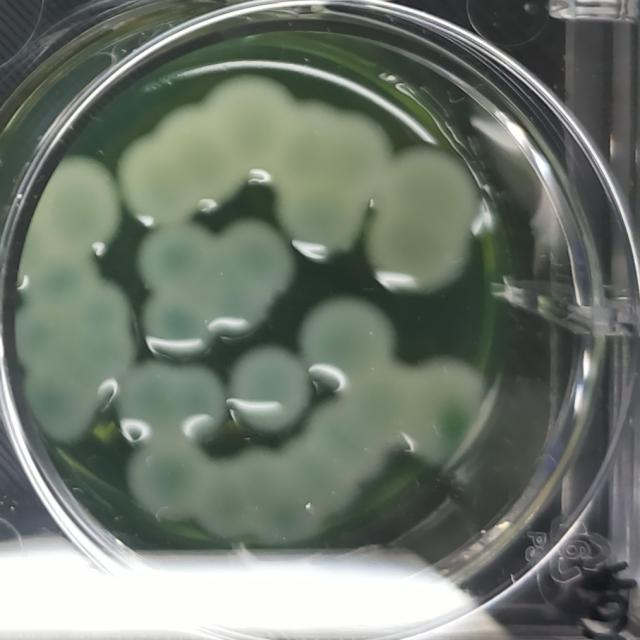vibrio: (16, 146, 141, 442), (203, 388, 398, 551), (122, 78, 280, 220), (137, 220, 290, 352), (368, 146, 480, 298), (285, 92, 389, 255), (288, 296, 399, 394), (402, 350, 494, 466), (113, 358, 226, 442), (231, 342, 318, 434), (122, 443, 208, 520)
